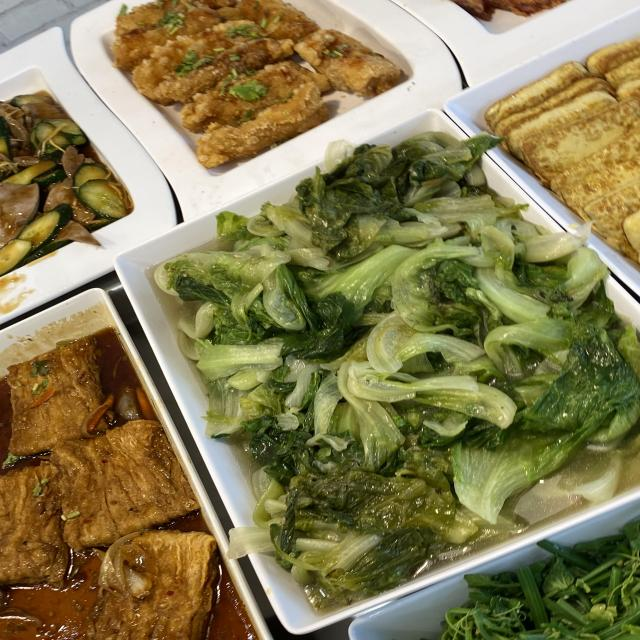Fushan-lettuce: (243, 241, 572, 496)
bean bag: (8, 398, 150, 626)
